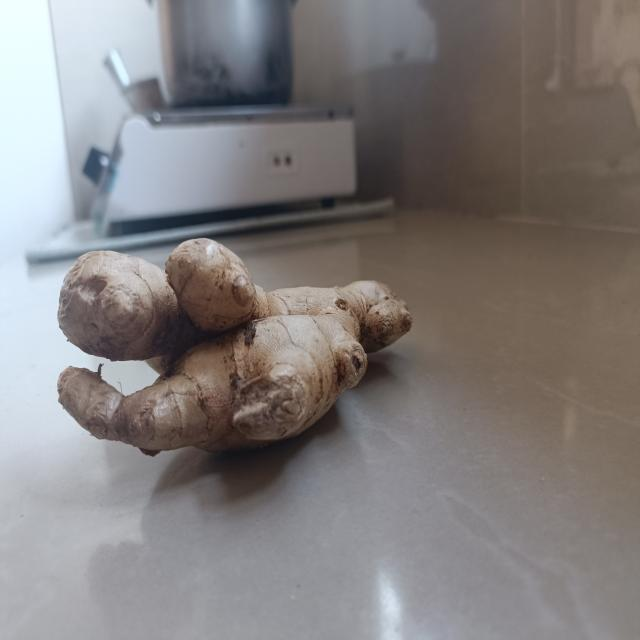ginger: (56, 235, 414, 464)
